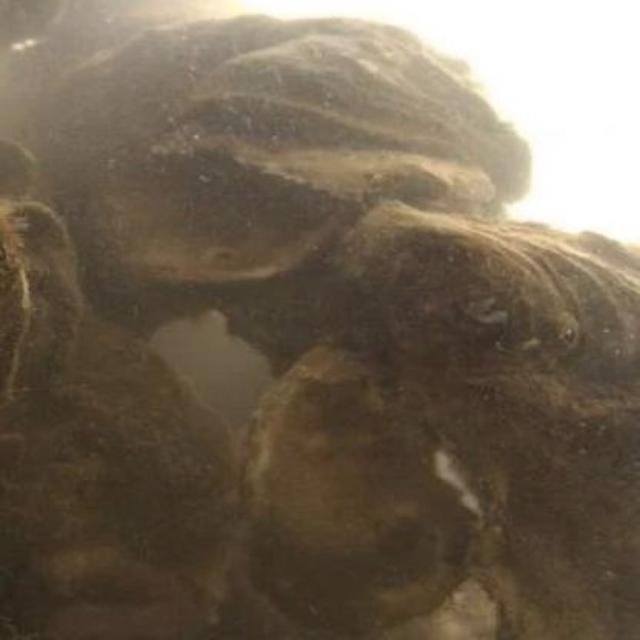Oyster-Closed: (32, 19, 470, 214), (245, 340, 481, 638), (344, 205, 640, 393), (195, 36, 531, 198)
